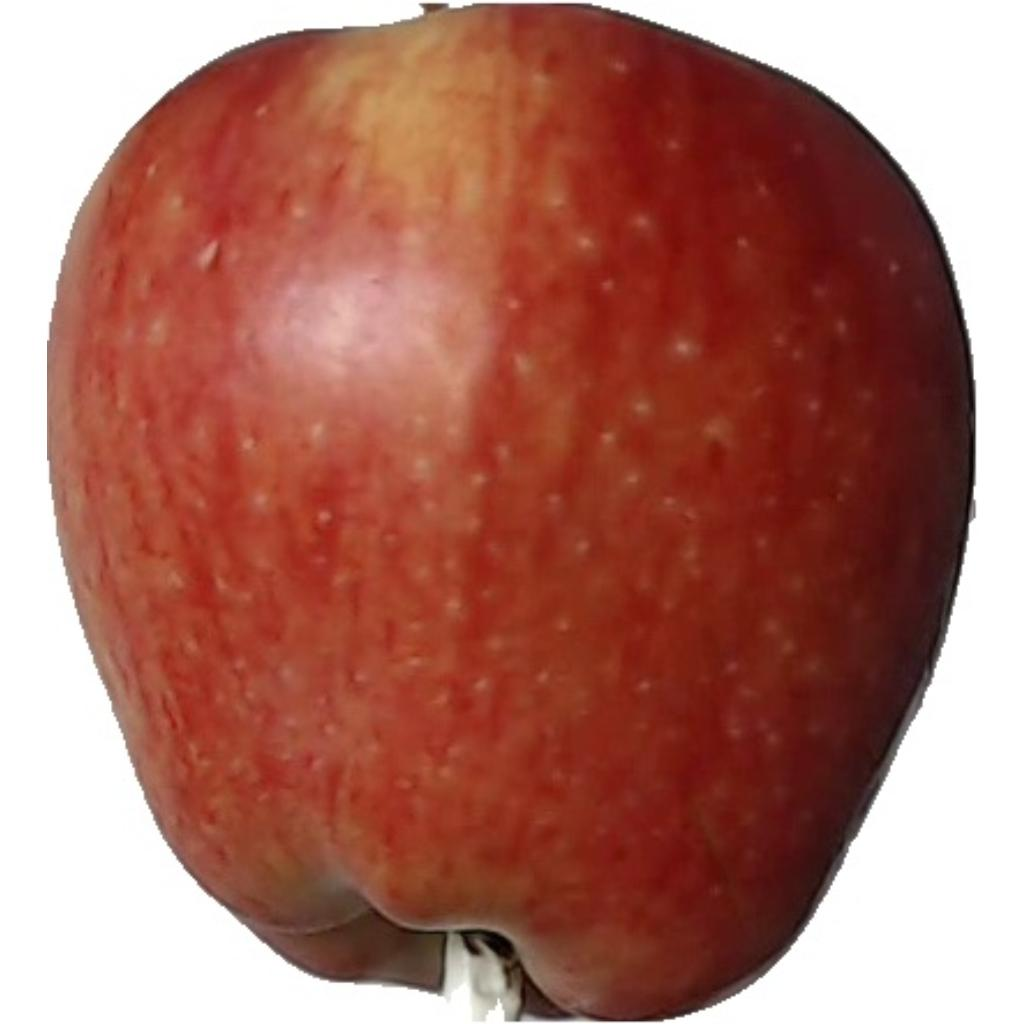apple: (50, 4, 972, 1018)
